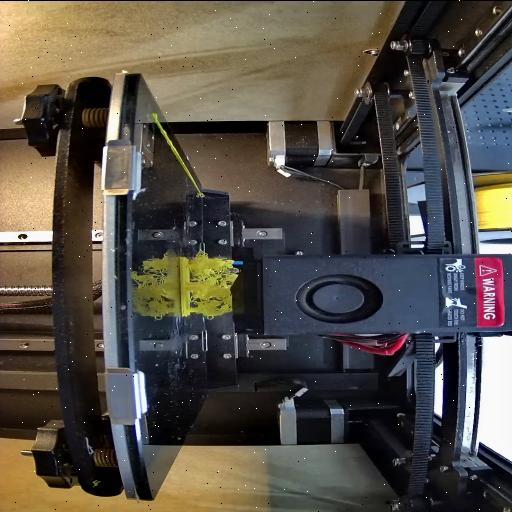spaghetti: (190, 253, 242, 319)
